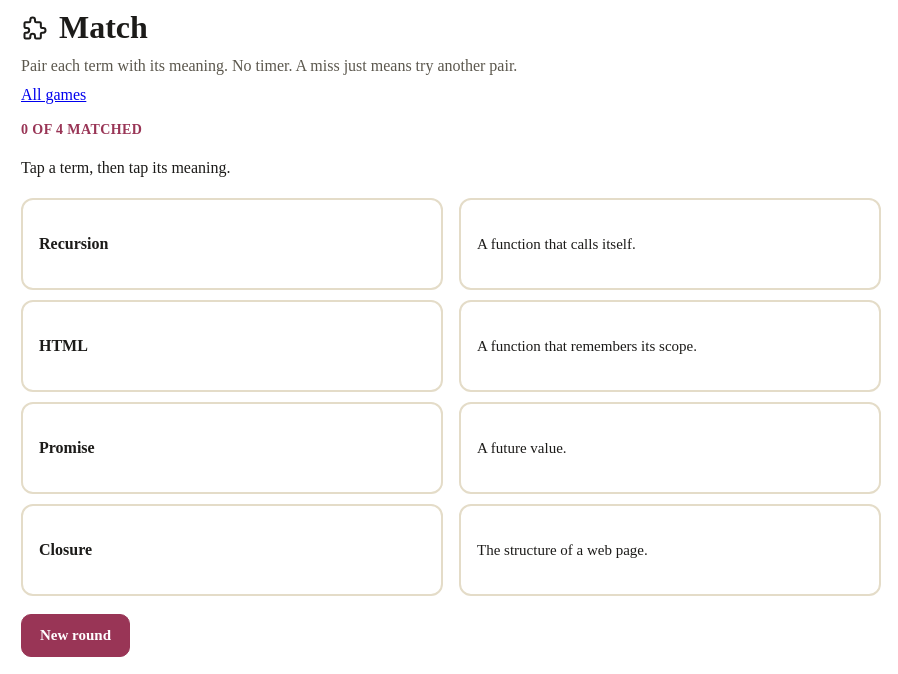
Scenario: MatchPage › matches a term to its meaning
The width and height of the screenshot is (898, 674).
Click the button with aria-label "Term: Recursion" at (74, 244), box [21,198,443,290]
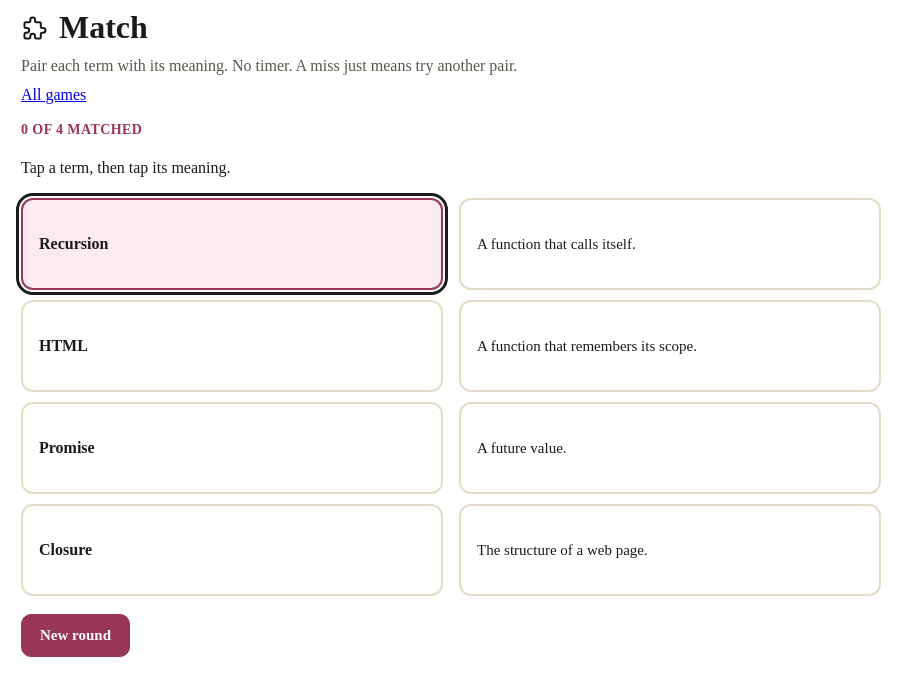
Click the button with aria-label "Meaning: A function that calls itself." at (556, 244), box [459,198,881,290]
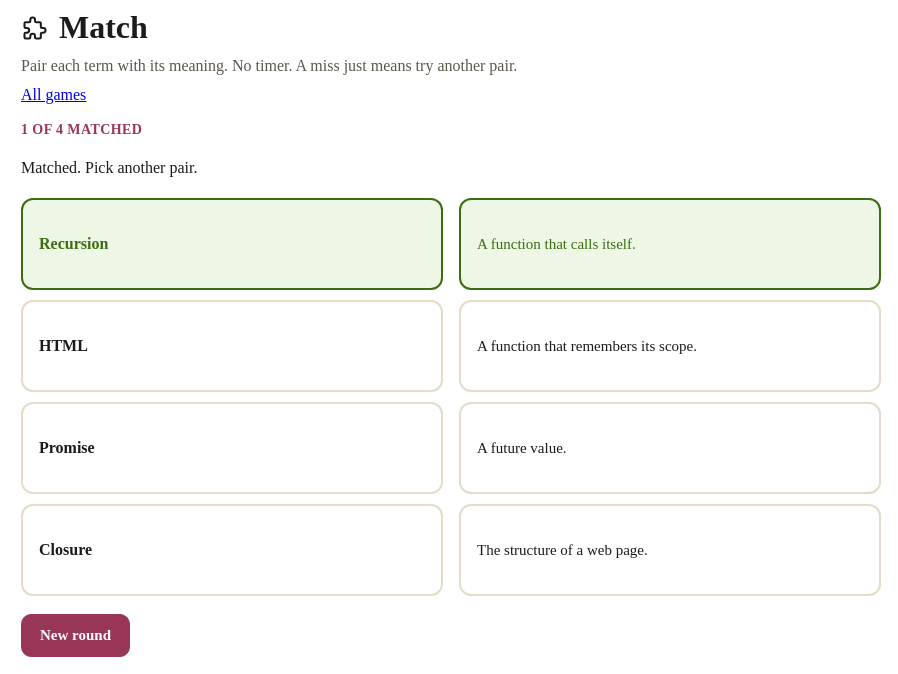
Result: the text "Matched. Pick another pair." is shown at [21,159,197,176]
Result: the text "1 of 4 matched" is shown at [21,122,142,137]
Result: the button with aria-label "Term: Recursion" is disabled at [21,198,443,290]
